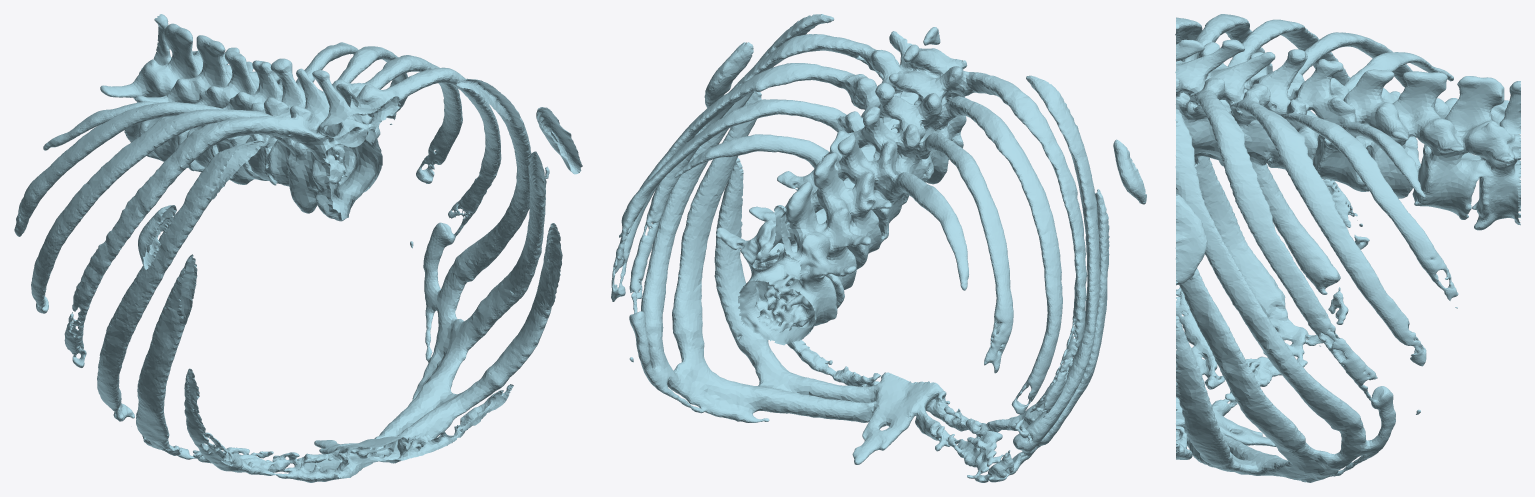
Rendered from bone.obj.
The picture shows the model from 3 angles, left to right: view 1: azimuth 30°, elevation 25°; view 2: azimuth 150°, elevation 25°; view 3: azimuth 270°, elevation 25°; orthographic projection.
Parts seen in each view (by area): view 1: grp1; view 2: grp1; view 3: grp1.
Part boxes in pixels (box(x1,y1,x2,y2)): grp1: box(14, 14, 582, 482); grp1: box(611, 14, 1146, 482); grp1: box(1175, 14, 1520, 482).
Size of the model in its own units: 321 by 278 by 220.
